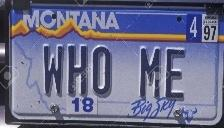0: (92, 44, 112, 99)
E: (162, 44, 189, 100)
H: (66, 41, 90, 96)
M: (138, 44, 162, 101)
W: (40, 42, 66, 96)
